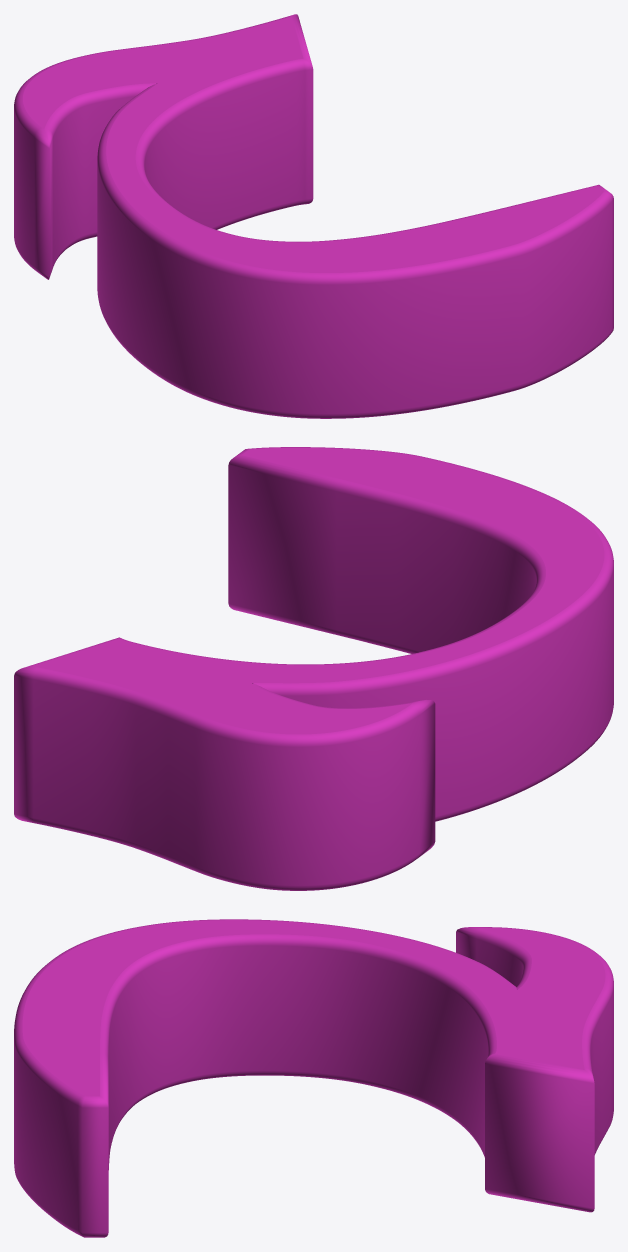
The model's file is 6 kho.fbx.
The picture shows the model from 3 angles, top to bottom: view 1: azimuth 30°, elevation 25°; view 2: azimuth 150°, elevation 25°; view 3: azimuth 270°, elevation 25°; orthographic projection. The views are drawn at different scales.
Visible parts, largest first — view 1: Text.029; view 2: Text.029; view 3: Text.029.
Part boxes in pixels (x1,y1,x2,y2): Text.029: (14,14,613,418); Text.029: (14,447,613,890); Text.029: (14,919,613,1237).
Bounding box in the file's own units: 50.45 × 18 × 69.68.
